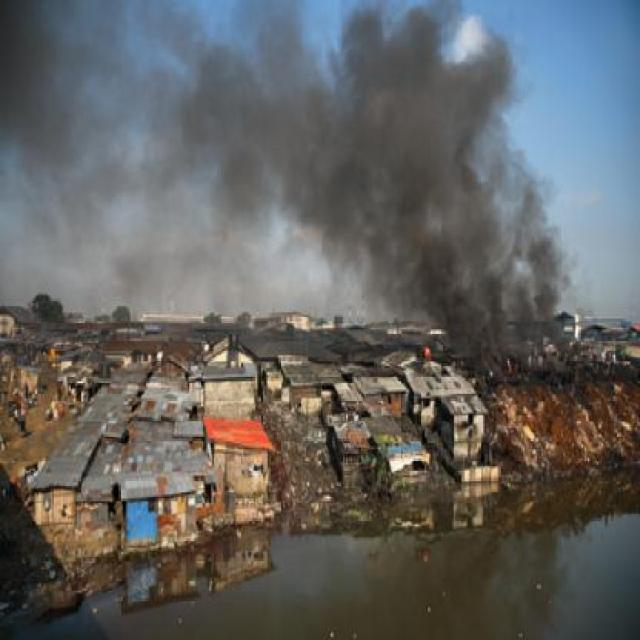garbage: (4, 309, 640, 602)
